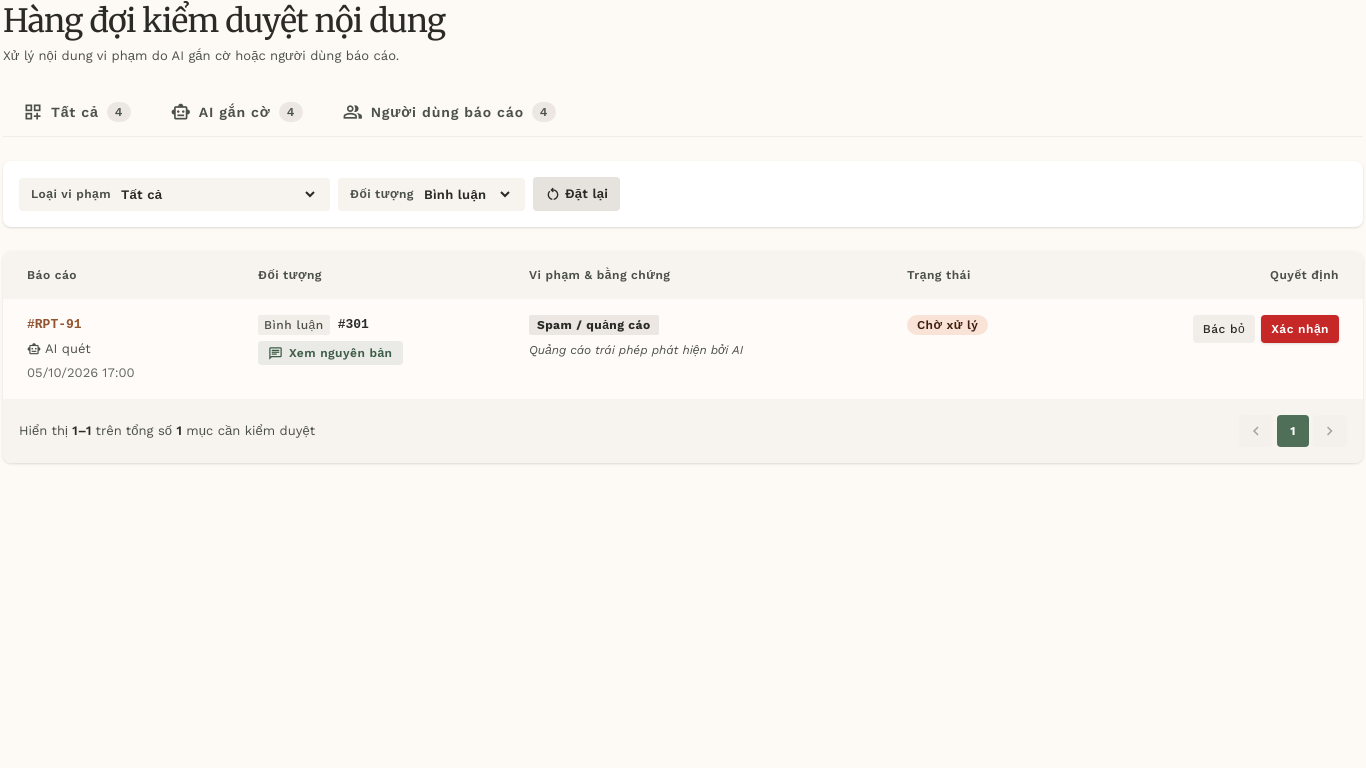
Test: Kiểm duyệt bình luận vi phạm (SCR-35) › xác nhận vi phạm bình luận yêu cầu lý do 10–500 ký tự
Later steps or results of the test are not shown.
Check: the text "#RPT-91" is shown, box top-left (27, 317), bottom-right (82, 332)
Click the button "Xác nhận". click: click(1300, 329)
box: top-left (1261, 315), bottom-right (1339, 343)
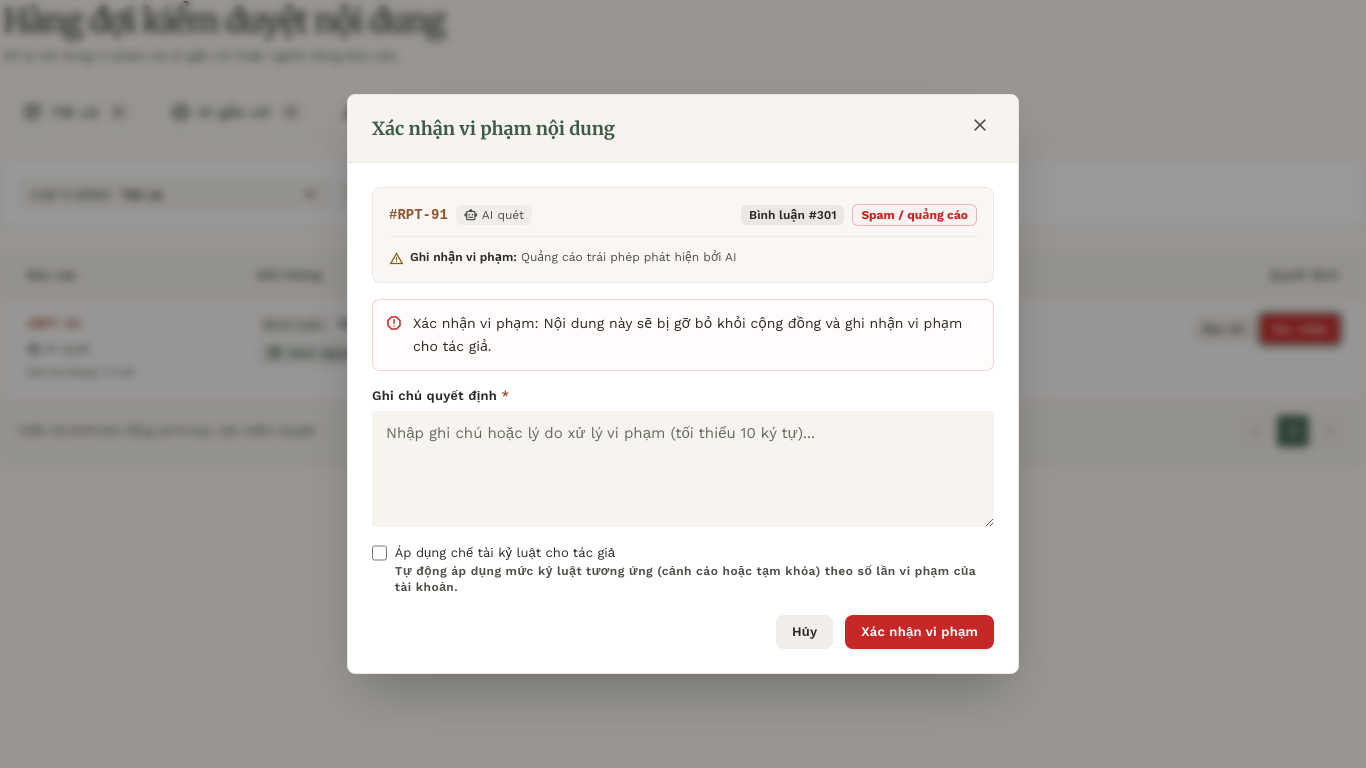
Check: the text "Xác nhận vi phạm: Nội dung này sẽ bị gỡ bỏ khỏi cộng đồng" is shown, box top-left (413, 315), bottom-right (962, 354)
